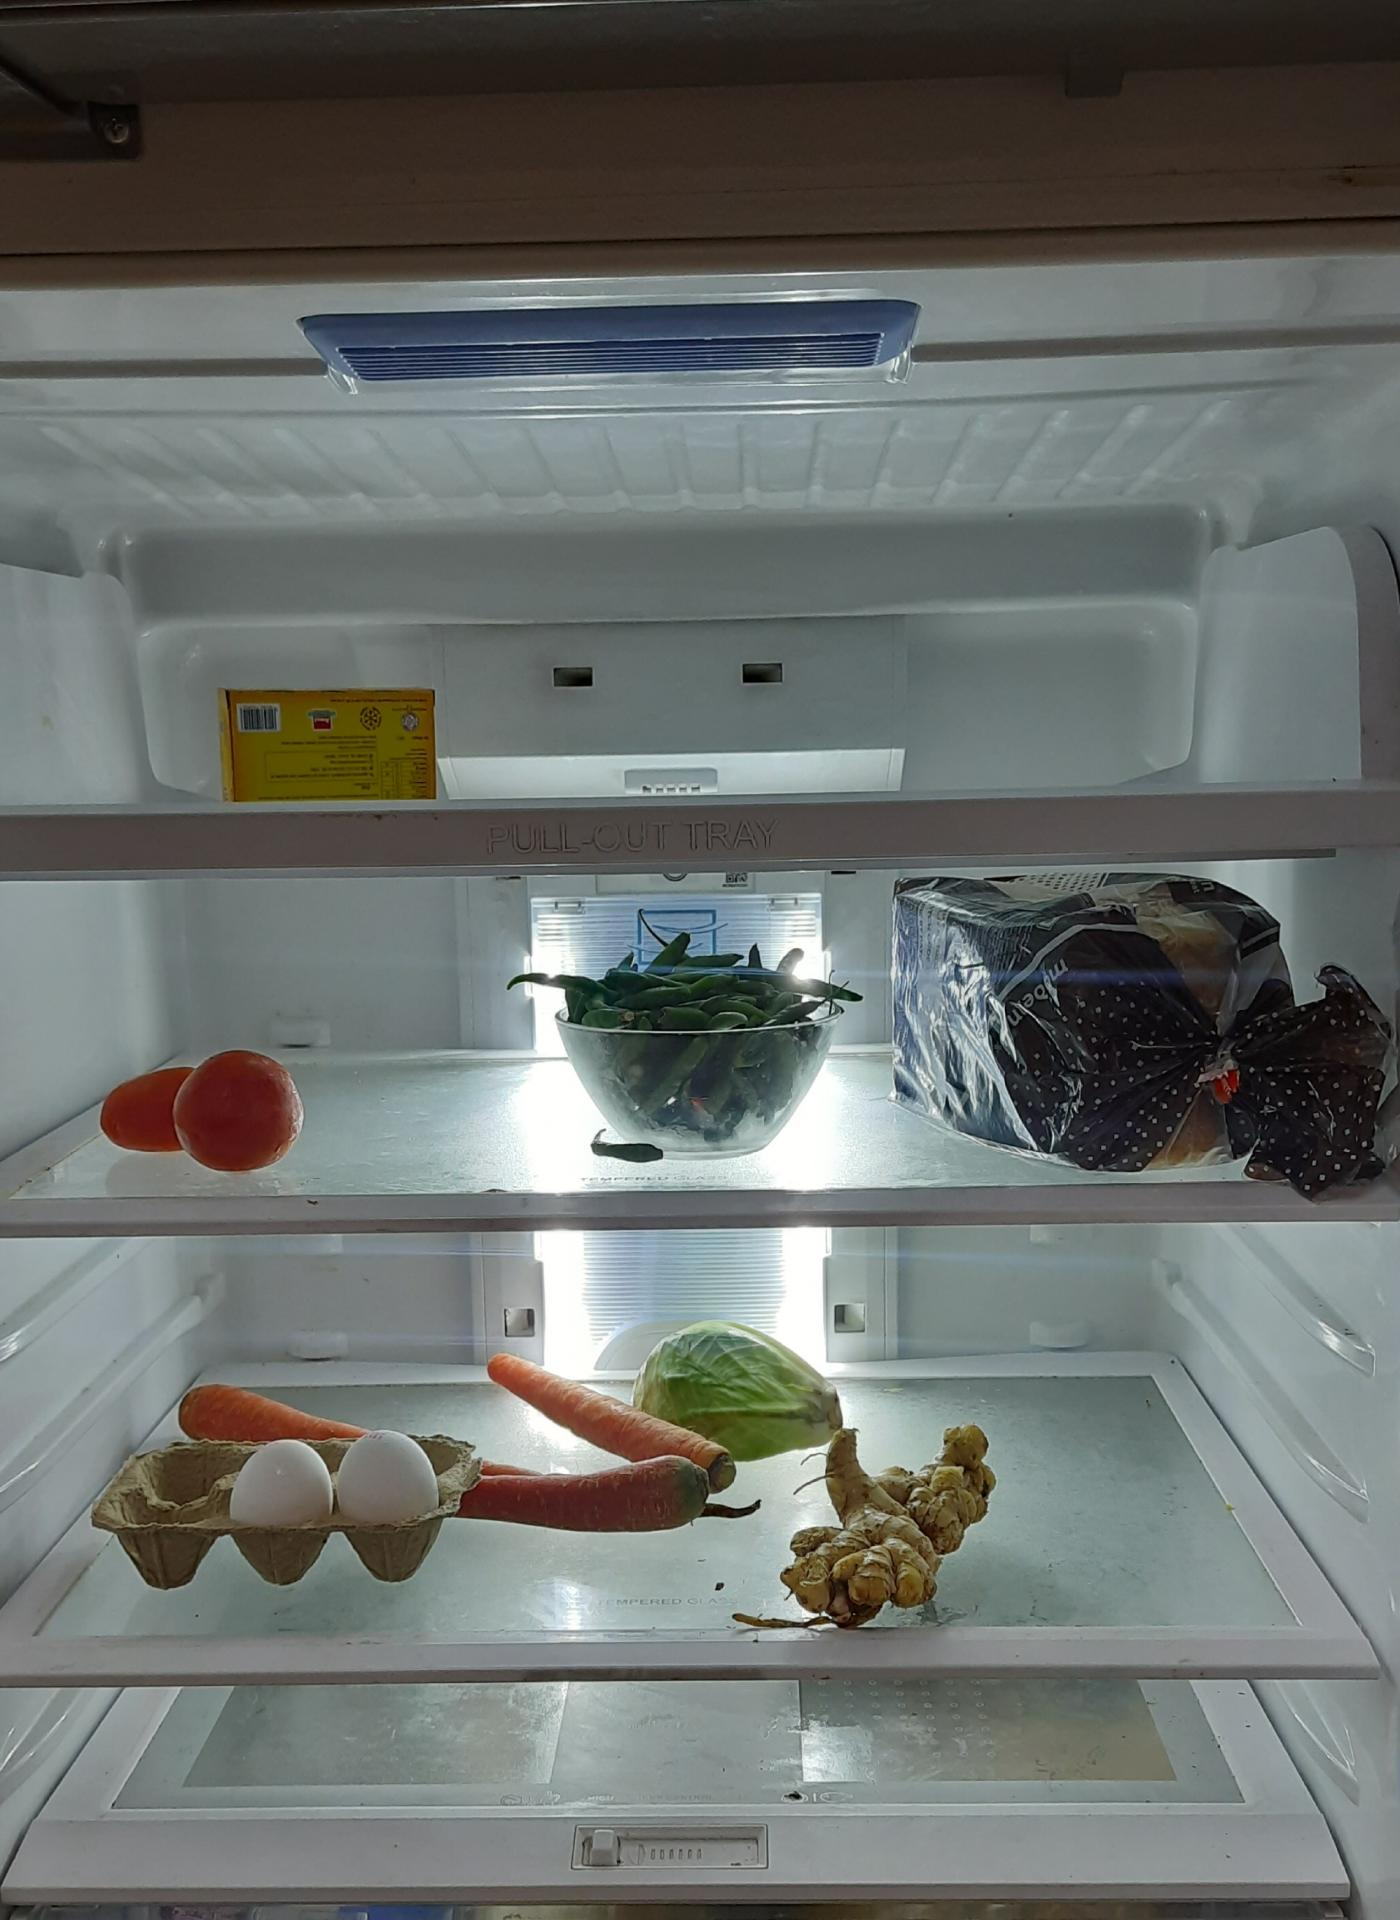bread: (899, 874, 1400, 1196)
butter: (216, 678, 440, 803)
cabbage: (637, 1325, 845, 1455)
carrots: (189, 1383, 717, 1547), (486, 1349, 726, 1486)
chillies: (561, 941, 842, 1143)
egg: (225, 1431, 450, 1583)
ginger: (784, 1431, 993, 1637)
tomato: (104, 1043, 312, 1172)
